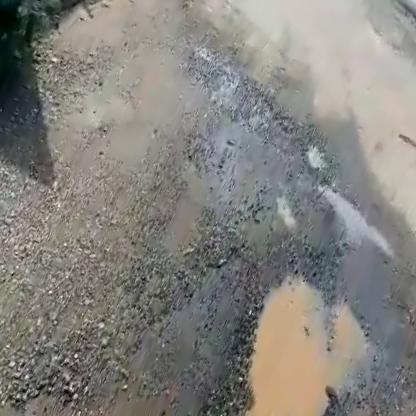pothole: (161, 259, 395, 416), (298, 141, 337, 178)
